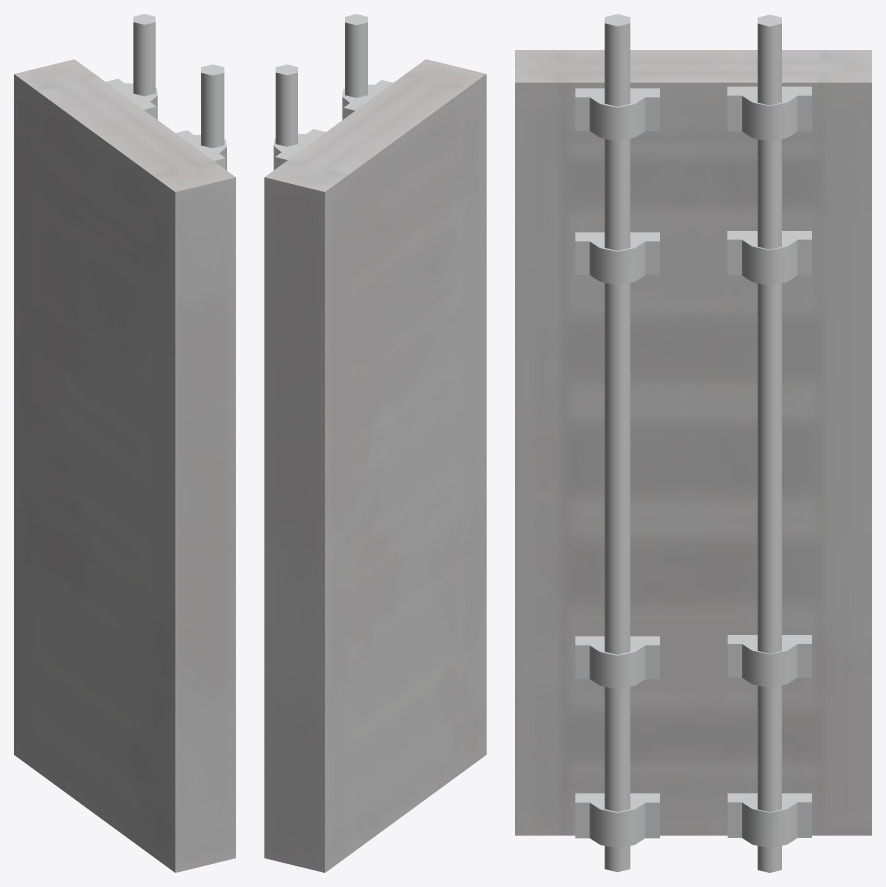
File: SM_Container_R.fbx
The picture shows the model from 3 angles, left to right: view 1: azimuth 30°, elevation 25°; view 2: azimuth 150°, elevation 25°; view 3: azimuth 270°, elevation 25°; orthographic projection. The views are drawn at different scales.
Parts seen in each view (by area): view 1: SM_Container_R; view 2: SM_Container_R; view 3: SM_Container_R.
Boxes of the visible parts, x1,y1,x2,y2 form: SM_Container_R: (14, 14, 235, 872); SM_Container_R: (264, 14, 486, 872); SM_Container_R: (515, 14, 871, 872).
Bounding box in the file's own units: 0.345 × 2.61 × 0.996.
